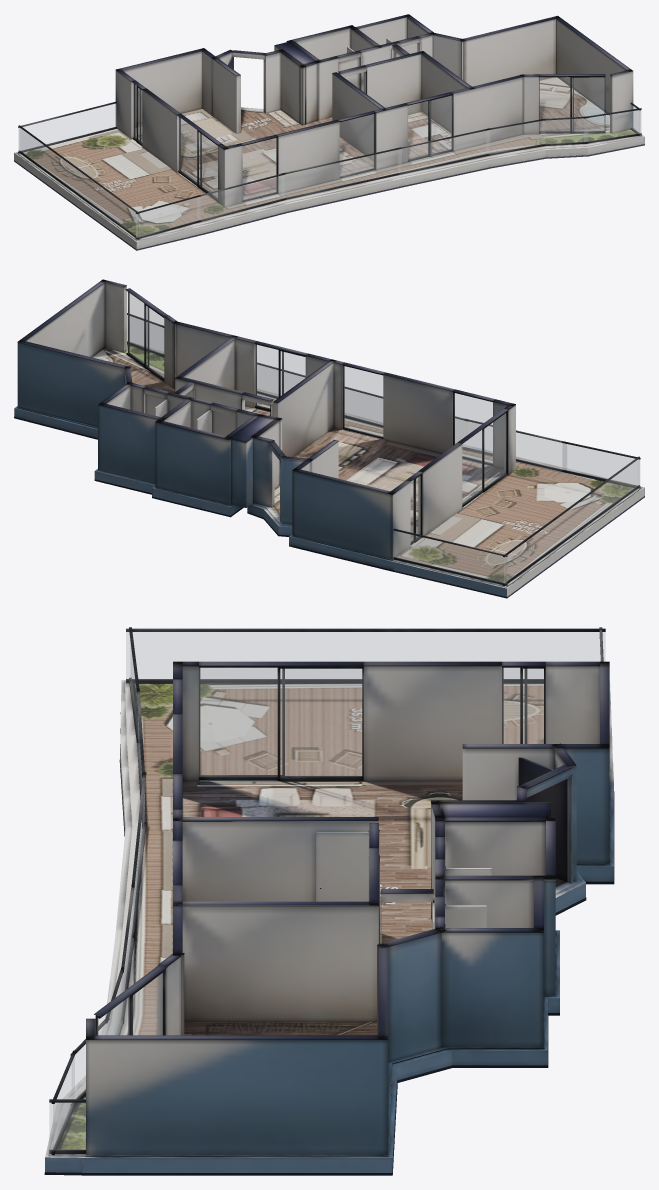
3 views of the same model, one above another, from view 1: azimuth 30°, elevation 25°; view 2: azimuth 150°, elevation 25°; view 3: azimuth 270°, elevation 25° (orthographic). The views are drawn at different scales.
Visible parts, largest first — view 1: plan, glass5_m, railg7_m, railg2_m, railg0_m, railg6_m, glass4_m, railg8_m, glass0_m, glass3_m, glass2_m, railg9_m (+4 smaller); view 2: plan, railg2_m, railg0_m, glass0_m, glass3_m, glass5_m, glass4_m, glass2_m, railg9_m, railg8_m, railg7_m, railg6_m (+2 smaller); view 3: plan, glass0_m, railg2_m, glass1_m, glass5_m, railg1_m, railg3_m.
Part boxes in pixels (box(x1,y1,x2,y2)): plan: box(14, 14, 644, 250); glass5_m: box(539, 77, 604, 131); railg7_m: box(281, 149, 401, 198); railg2_m: box(19, 128, 138, 237); railg0_m: box(18, 104, 116, 151); railg6_m: box(398, 130, 489, 172); glass4_m: box(408, 96, 451, 159); railg8_m: box(197, 175, 284, 220); glass0_m: box(179, 117, 217, 198); glass3_m: box(340, 114, 374, 176); glass2_m: box(243, 138, 276, 199); railg9_m: box(136, 197, 200, 237); plan: box(14, 279, 644, 598); railg2_m: box(504, 459, 638, 583); railg0_m: box(394, 531, 506, 583); glass0_m: box(462, 413, 505, 504); glass3_m: box(344, 366, 382, 436); glass5_m: box(127, 292, 163, 377); glass4_m: box(255, 345, 305, 409); glass2_m: box(454, 393, 492, 463); railg9_m: box(562, 443, 639, 485); railg8_m: box(469, 422, 566, 470); railg7_m: box(345, 389, 467, 443); railg6_m: box(257, 365, 304, 396); plan: box(44, 627, 614, 1175); glass0_m: box(199, 668, 361, 776); railg2_m: box(126, 632, 605, 679); glass1_m: box(502, 668, 543, 743); glass5_m: box(98, 973, 162, 1034); railg1_m: box(49, 1103, 85, 1149); railg3_m: box(53, 1057, 74, 1151).
Size of the model in its own units: 20.04 by 2.62 by 10.08.
Materials: 2 (1 with a texture image).
